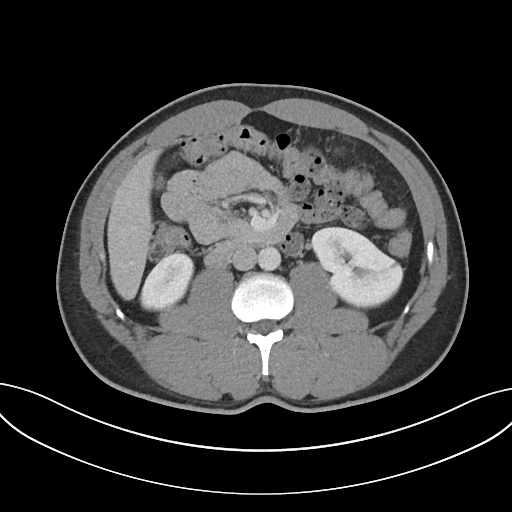Lesion: (384, 255, 404, 272)
